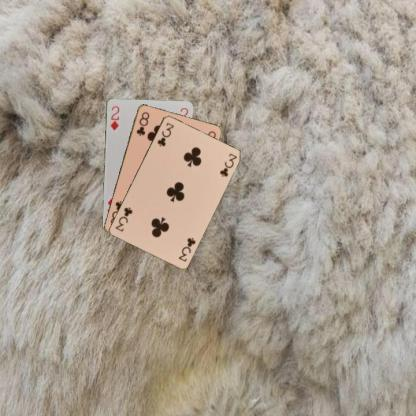2d: (108, 103, 120, 132)
3c: (176, 234, 197, 263), (154, 120, 175, 147)
8c: (134, 109, 150, 137)
